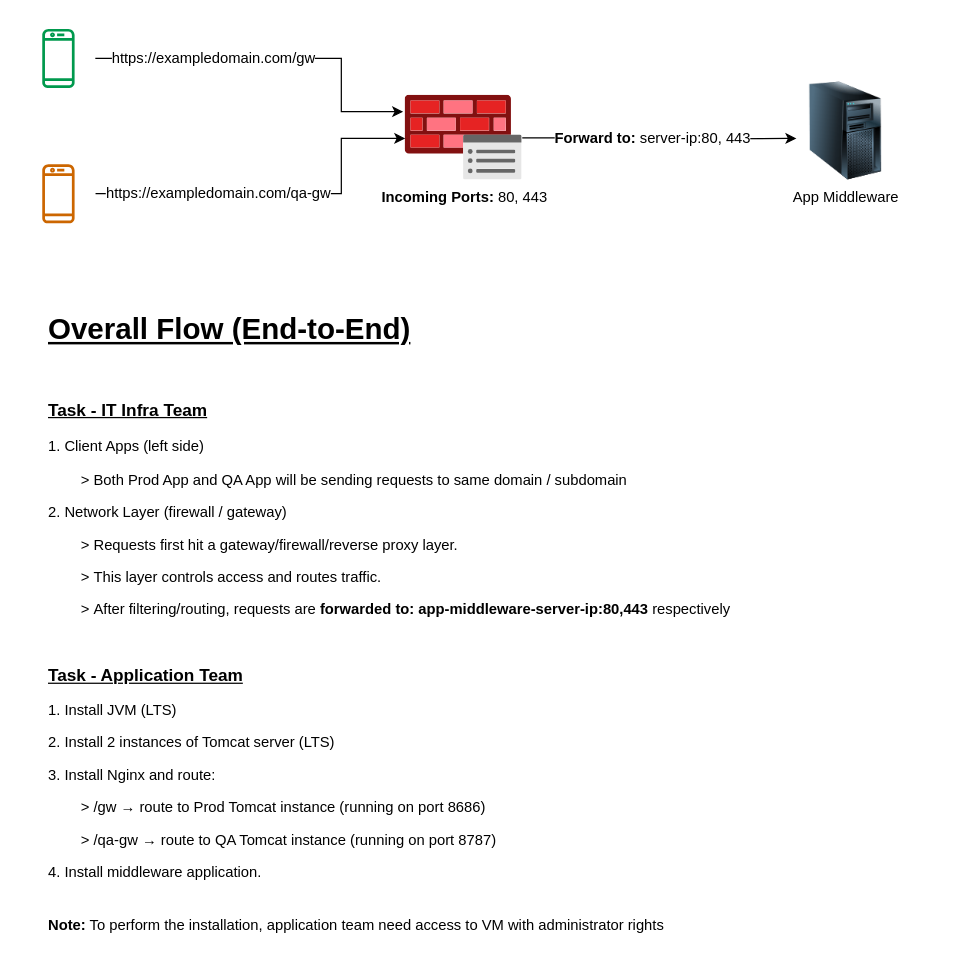
Image size: 966x969. Some labels were removed from this diagram. The shapes that lost their labels are listed below. From the top down, each one's centre as x and y in pixels, then its label:
At pixel 57 57: "Prod App".
At pixel 57 193: "QA App".
